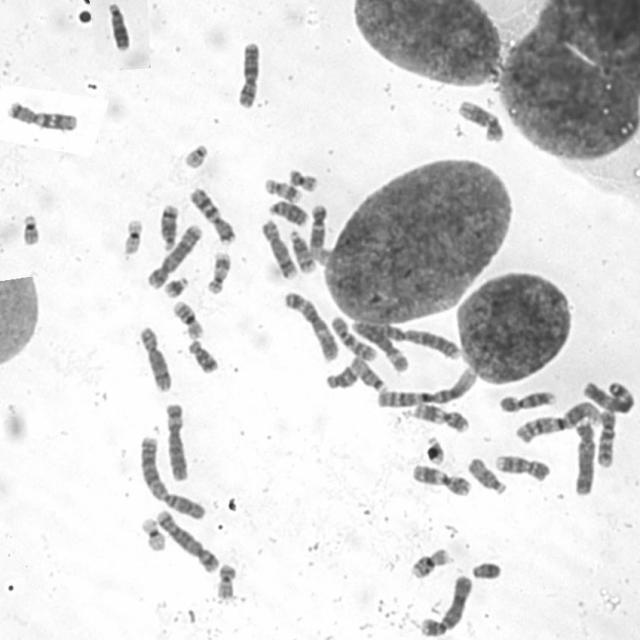A1: (375, 363, 478, 410), (513, 398, 603, 444)
A2: (136, 433, 208, 521), (346, 318, 464, 360)
A3: (280, 287, 340, 363), (579, 375, 635, 414)
B4: (418, 571, 473, 638), (571, 416, 596, 496)
B5: (153, 506, 219, 574), (144, 220, 204, 290)
C10: (328, 312, 378, 363), (594, 406, 617, 469)
C11: (409, 460, 472, 498), (410, 400, 470, 434)
C12: (455, 96, 505, 143), (306, 202, 329, 253)
C6: (350, 318, 409, 374), (162, 400, 192, 483)
C7: (187, 184, 237, 245), (5, 98, 78, 132)
C8: (135, 323, 173, 394), (258, 216, 298, 280)
C9: (493, 451, 553, 483), (497, 388, 556, 413)
D13: (105, 0, 132, 52), (266, 197, 310, 227)
D14: (286, 226, 318, 274), (157, 201, 180, 252)
D15: (466, 455, 507, 496), (348, 355, 388, 395)
E16: (408, 544, 453, 580), (171, 298, 205, 340)
E17: (203, 249, 233, 296), (262, 176, 303, 203)
E18: (185, 336, 219, 374), (327, 365, 358, 392)
F19: (139, 514, 167, 552), (120, 217, 145, 255)
F20: (286, 166, 320, 192), (215, 561, 237, 599)
G21: (424, 433, 446, 466), (161, 274, 190, 299)
G22: (181, 139, 209, 170), (18, 212, 42, 246)
X: (233, 38, 263, 110)
Y: (469, 559, 503, 581)
